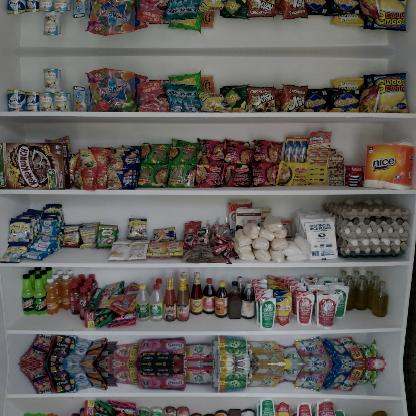Koko-Krunch: (0, 140, 72, 192)
